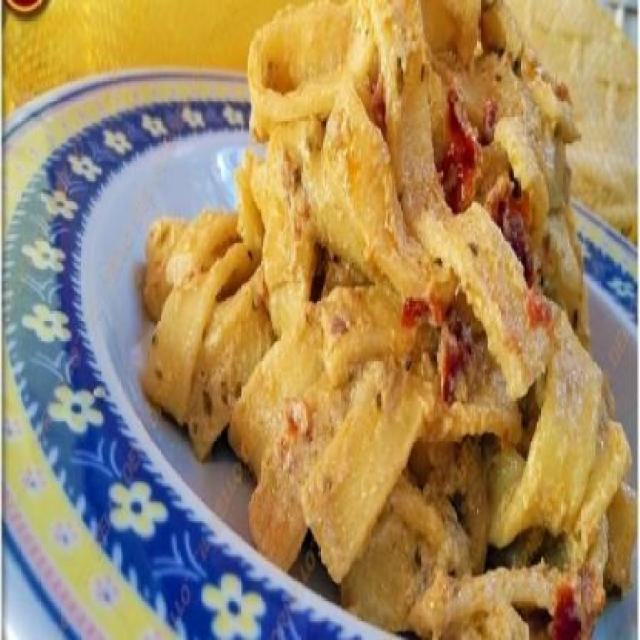Pasta al ragu: (145, 3, 633, 629)
